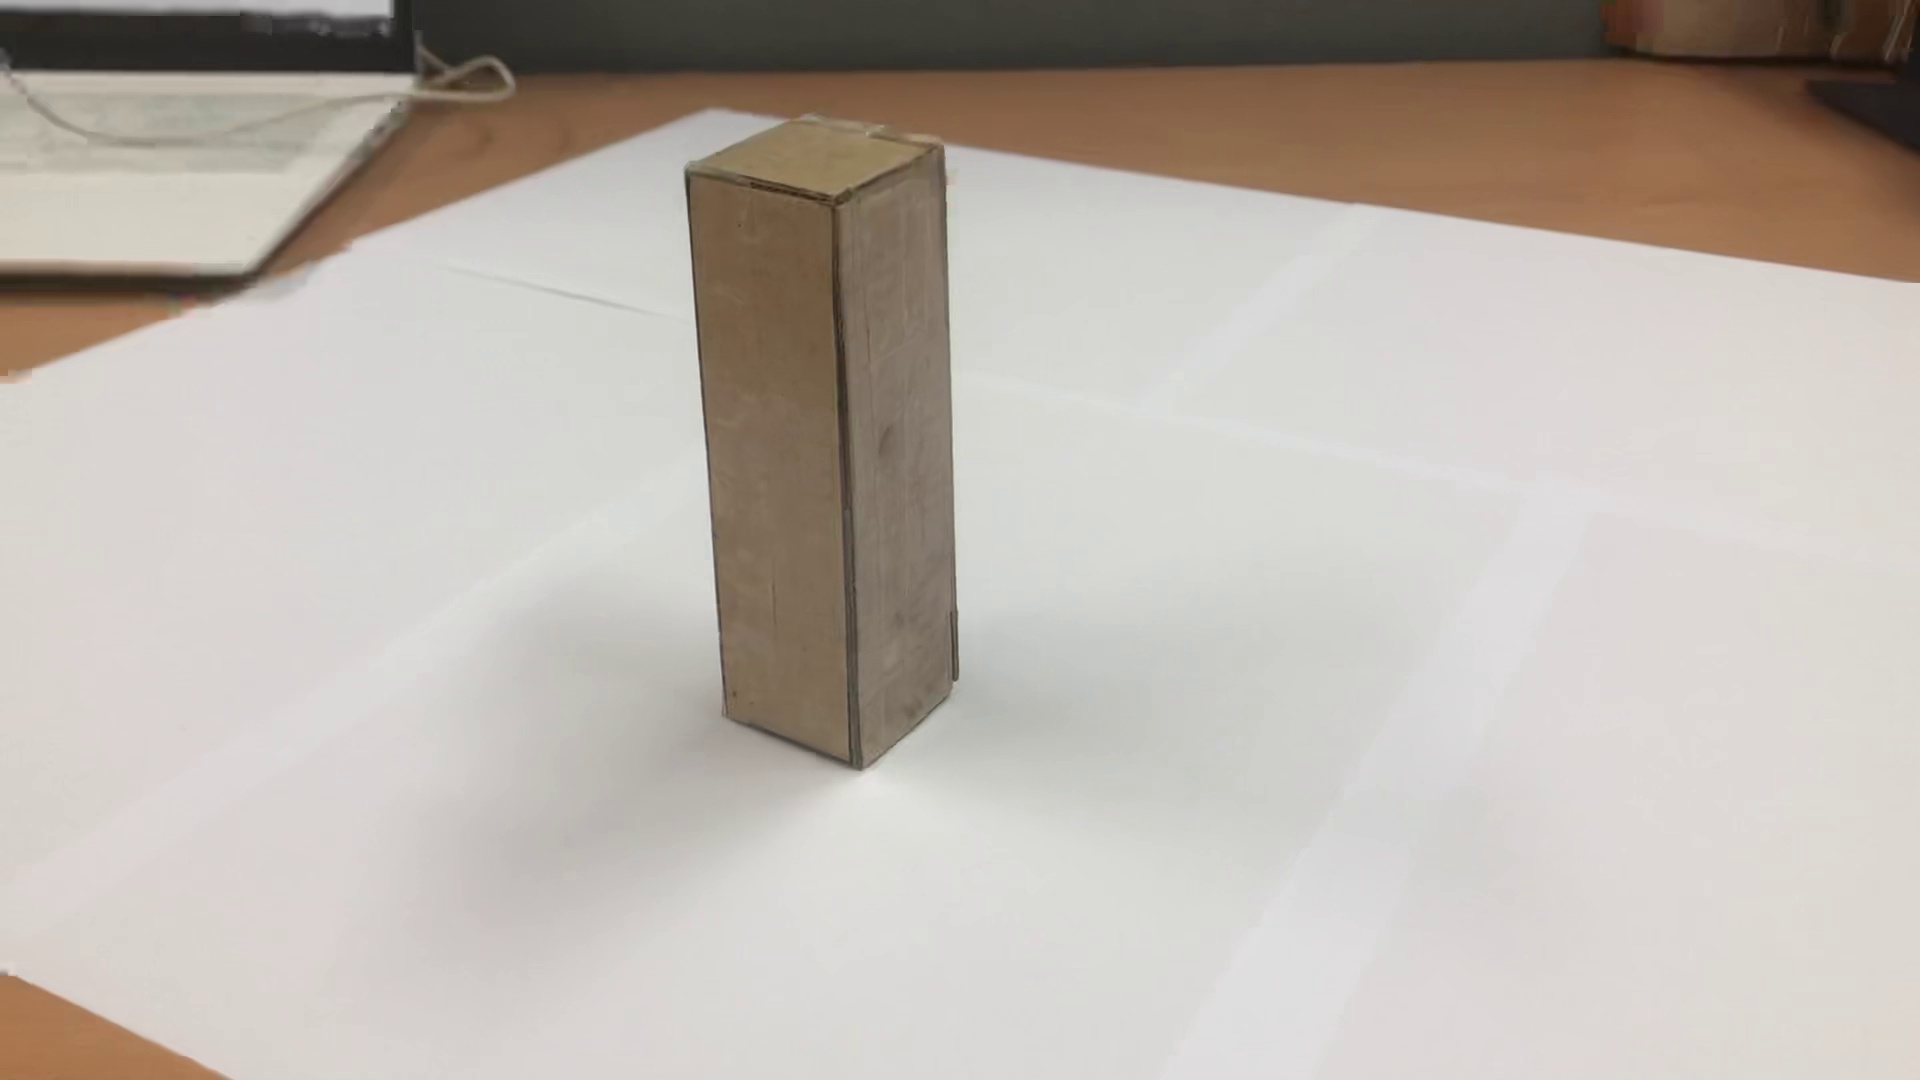box: (669, 84, 980, 798)
